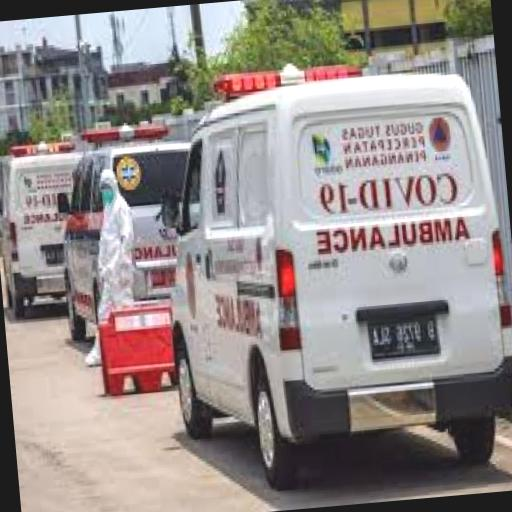Police car: (151, 65, 512, 496)
